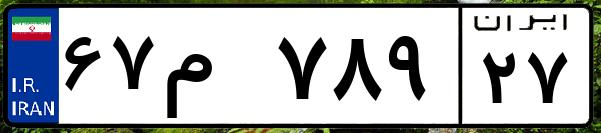2: (475, 38, 525, 113)
6: (57, 26, 110, 100)
7: (270, 28, 330, 110), (525, 38, 570, 115), (110, 28, 158, 98)
8: (330, 28, 385, 110)
9: (385, 28, 445, 110)
م: (158, 20, 270, 120)
